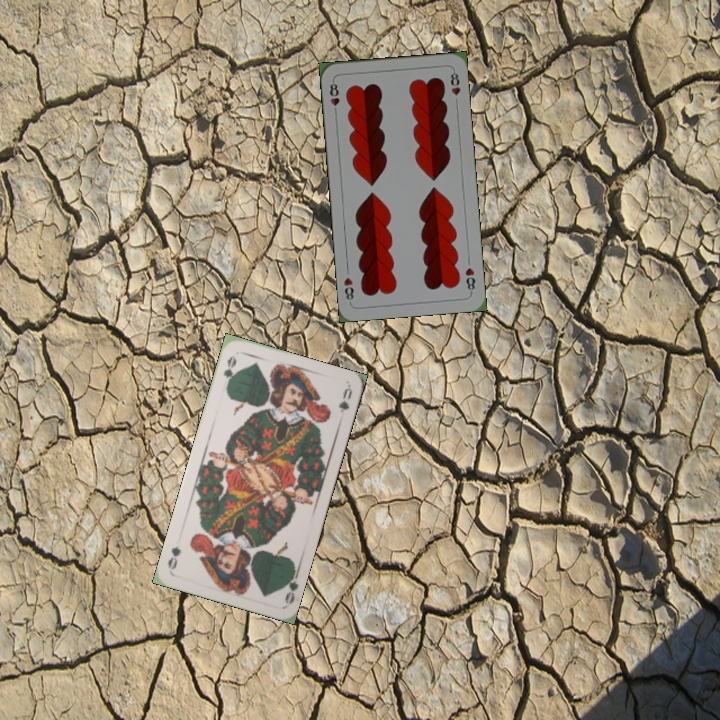GO: (280, 565, 302, 607), (219, 351, 239, 391)
H8: (326, 77, 342, 117), (461, 263, 478, 296)
